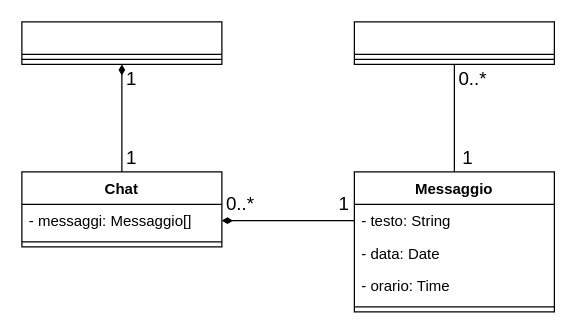
This 576x334 diagram has some shape labels left out. The centre of each missing label's shape, as x and y in pixels:
"Evento" goes at point 121,42.
"Utente" goes at point 453,42.
